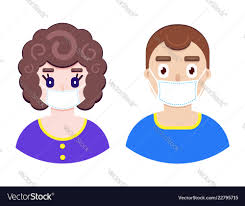masked: (20, 27, 105, 115), (141, 27, 214, 107)
